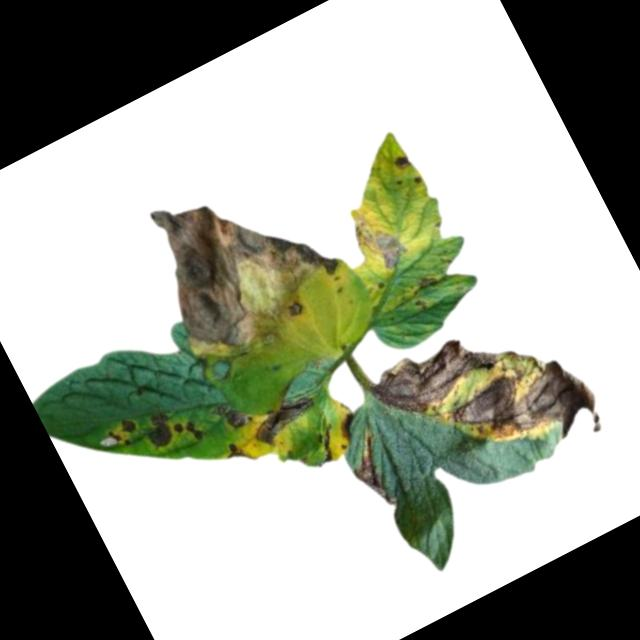Early_blight: (124, 141, 364, 377), (430, 345, 611, 498), (364, 305, 533, 434), (347, 200, 414, 280), (246, 386, 324, 450), (342, 439, 401, 515), (208, 395, 253, 438), (139, 410, 180, 453), (326, 410, 366, 452), (104, 415, 143, 450), (219, 436, 256, 471), (172, 412, 207, 448), (411, 270, 444, 298), (388, 150, 414, 177)
